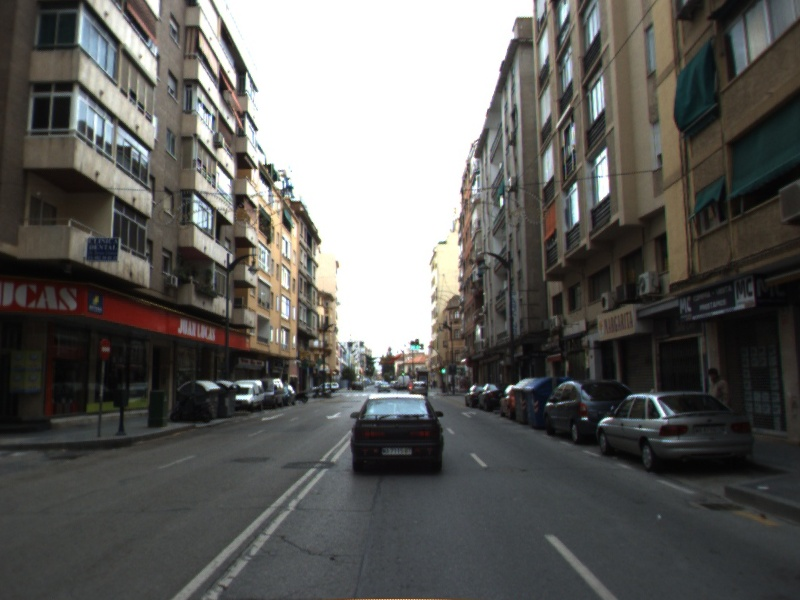RIGHT: (460, 409, 478, 419)
